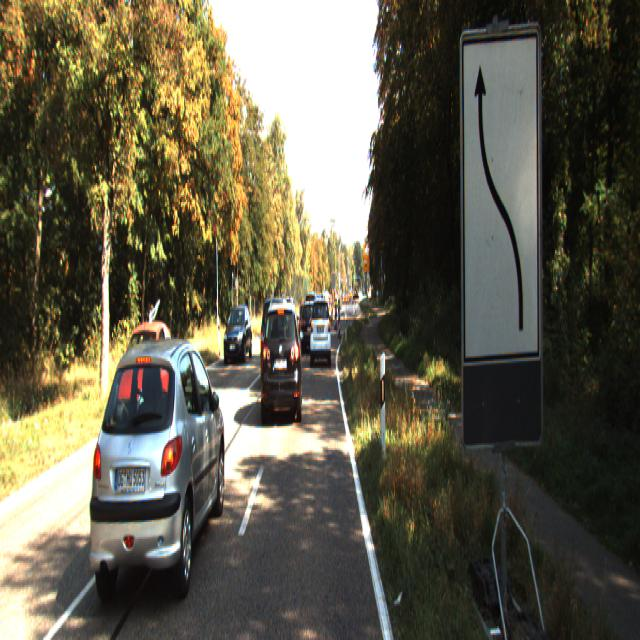Car: (84, 325, 226, 614), (110, 318, 179, 447), (260, 297, 302, 422), (259, 294, 292, 384), (222, 299, 252, 360), (311, 294, 331, 360), (297, 303, 317, 358)
